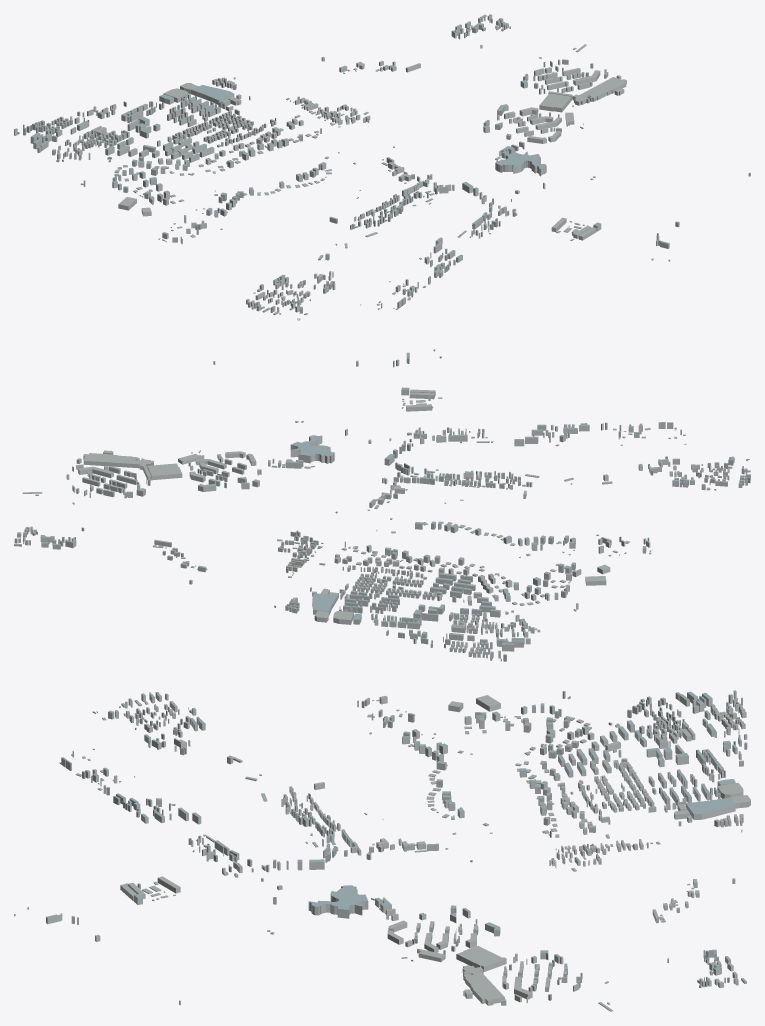
File: far.glb
The picture shows the model from 3 angles, top to bottom: view 1: azimuth 30°, elevation 25°; view 2: azimuth 150°, elevation 25°; view 3: azimuth 270°, elevation 25°; orthographic projection. The views are drawn at different scales.
Bounding box in the file's own units: 2123 × 27.5 × 2104.
